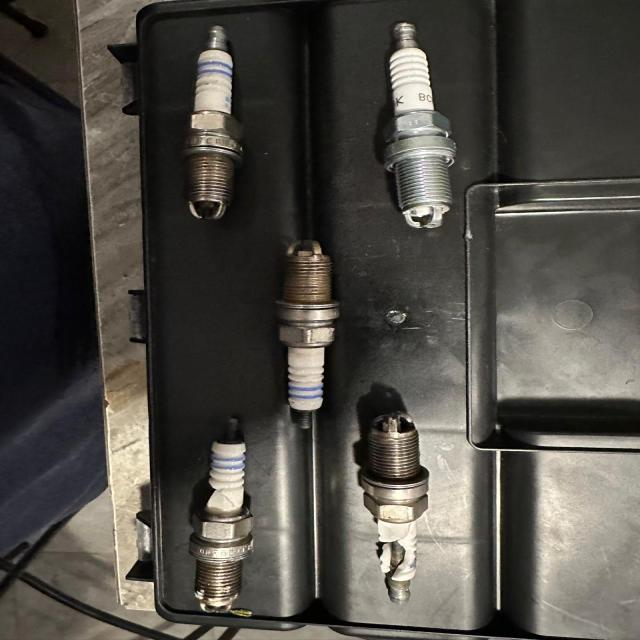damaged_spark-plug: (188, 413, 256, 621), (356, 415, 428, 605)
spark-plug: (374, 17, 462, 233), (276, 239, 347, 430), (181, 26, 240, 225)
